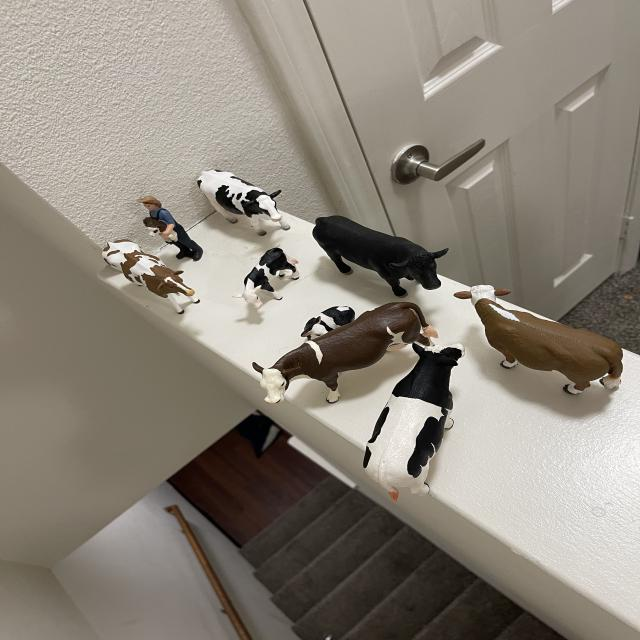cow: (435, 270, 635, 416), (252, 290, 440, 427), (352, 327, 477, 510), (301, 209, 451, 307), (187, 161, 301, 246), (95, 229, 202, 316), (231, 243, 306, 321), (295, 299, 359, 343), (140, 215, 169, 236)
person: (132, 189, 206, 270)
